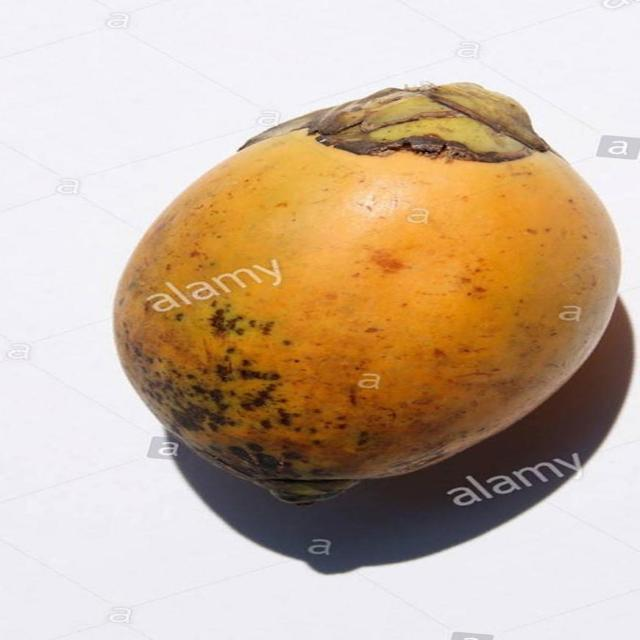good: (111, 81, 621, 508)
